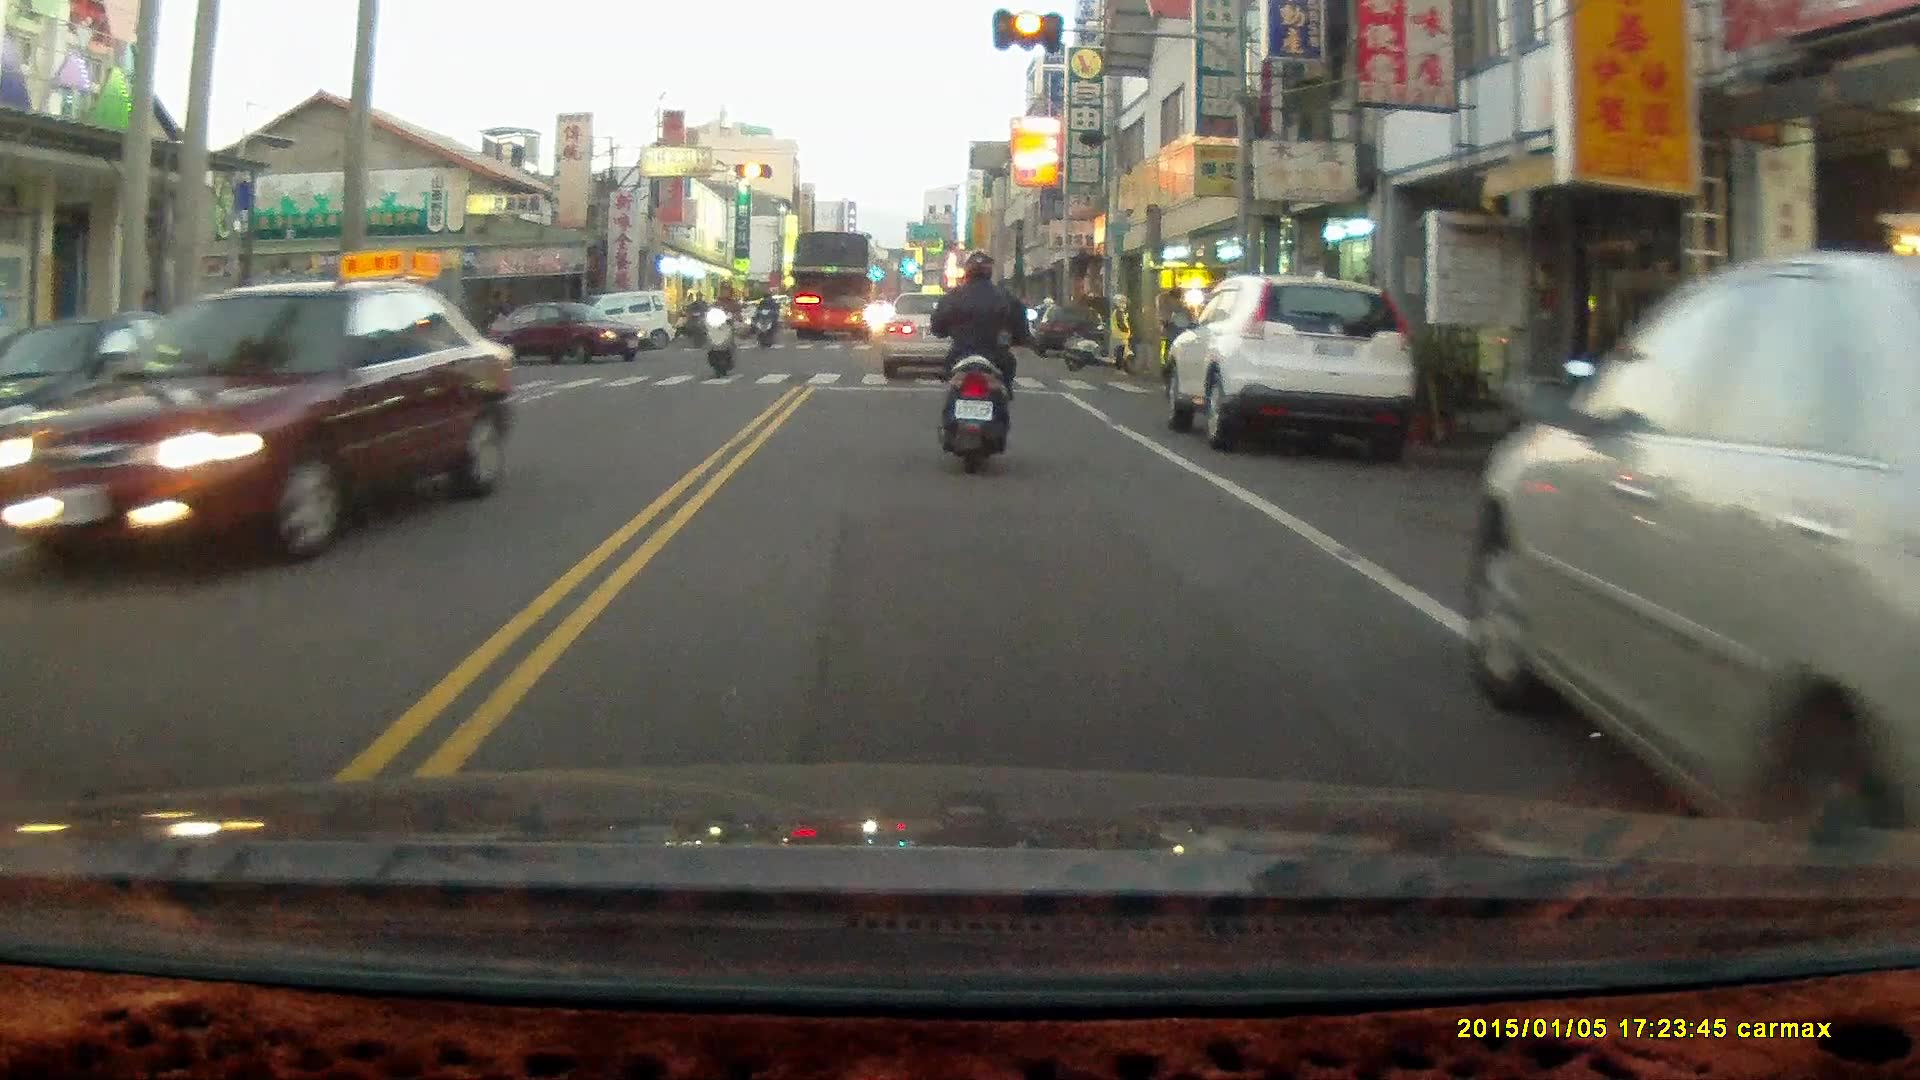pedestrian: (1158, 285, 1188, 385), (1105, 292, 1134, 377)
rider: (929, 248, 1035, 477), (700, 279, 740, 379), (681, 289, 708, 350), (754, 287, 776, 351)
vehicle: (1475, 229, 1919, 825), (20, 279, 503, 578), (1165, 275, 1420, 452), (1, 313, 250, 478), (786, 230, 877, 344), (499, 300, 641, 366), (880, 292, 987, 379)
